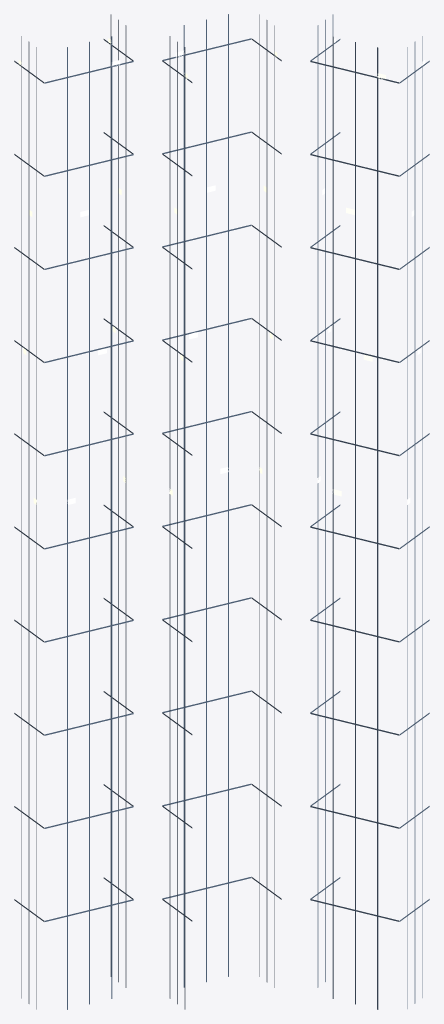
Rendered from SM_MM_W07_Facade.fbx.
3 renders of one model, left to right at view 1: azimuth 30°, elevation 25°; view 2: azimuth 210°, elevation 25°; view 3: azimuth 330°, elevation 25°, orthographic.
Parts seen in each view (by area): view 1: SM_MM_W07_Facade; view 2: SM_MM_W07_Facade; view 3: SM_MM_W07_Facade.
Part boxes in pixels (left/top/right/bottom): SM_MM_W07_Facade: left=14, top=14, right=133, bottom=1009; SM_MM_W07_Facade: left=162, top=14, right=281, bottom=1009; SM_MM_W07_Facade: left=310, top=14, right=429, bottom=1009.
Size of the model in its own units: 12.05 by 7.03 by 124.
